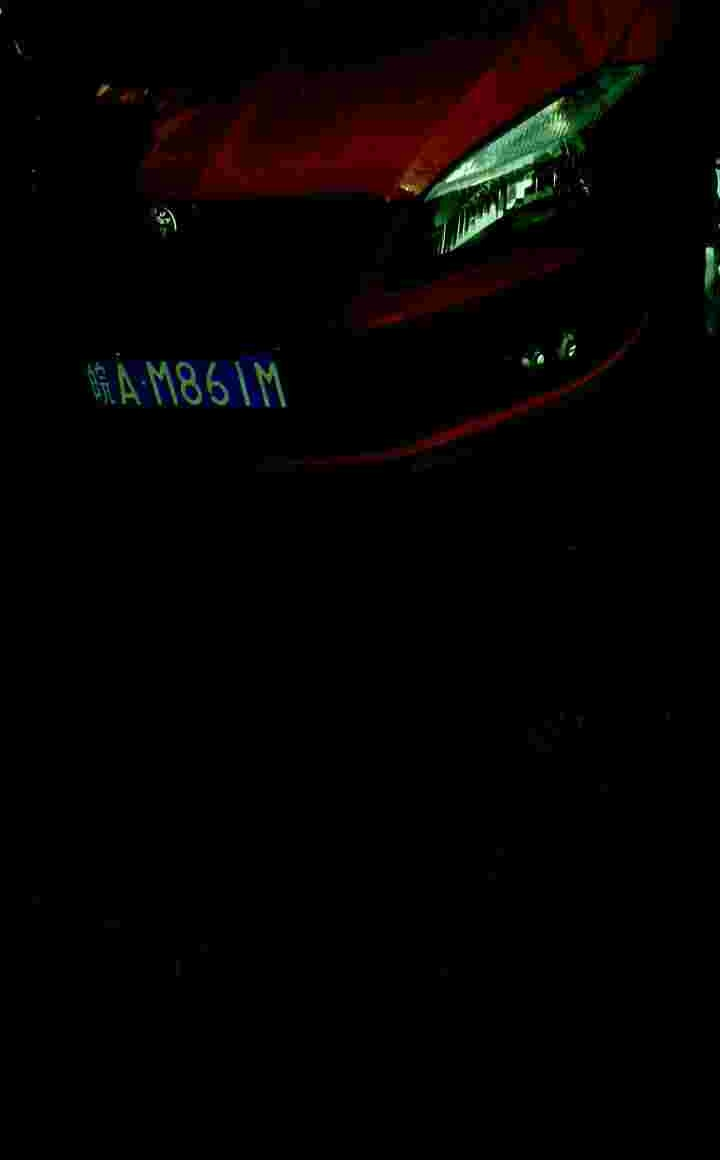license_plate: (84, 361, 291, 422)
